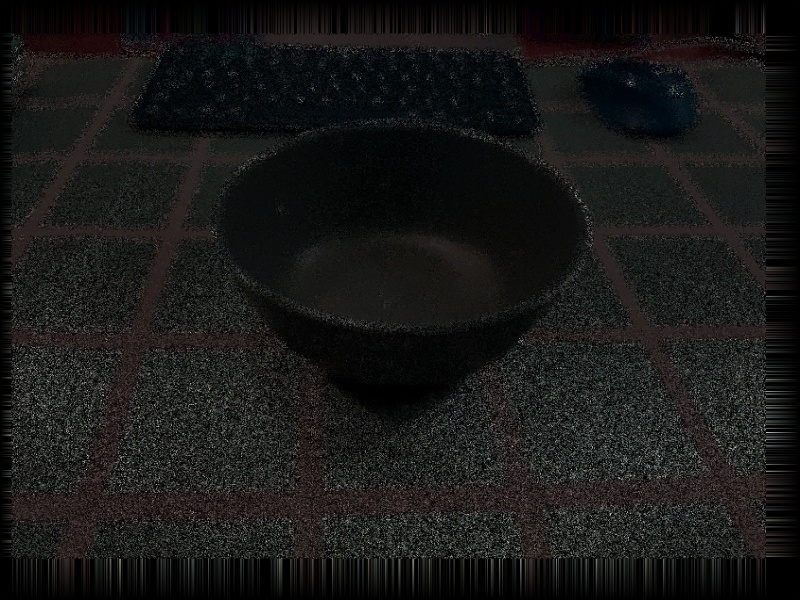bowl_big: (207, 117, 599, 391)
